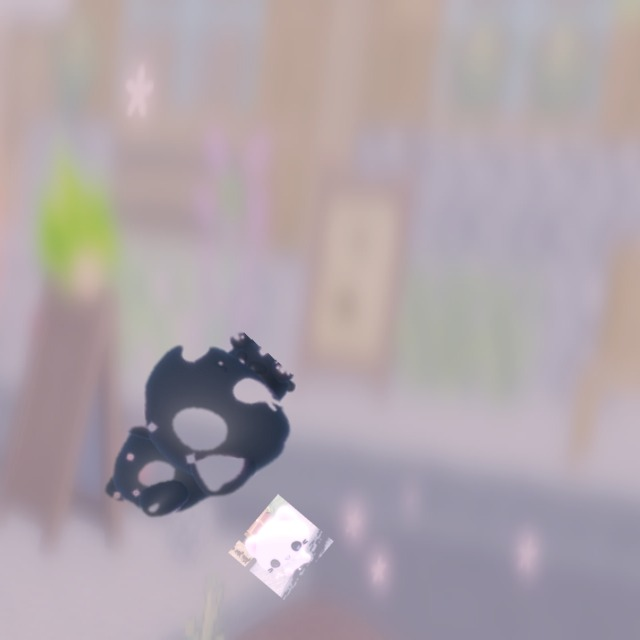urso_branco: (228, 494, 334, 600)
urso_preto: (49, 292, 331, 579)
